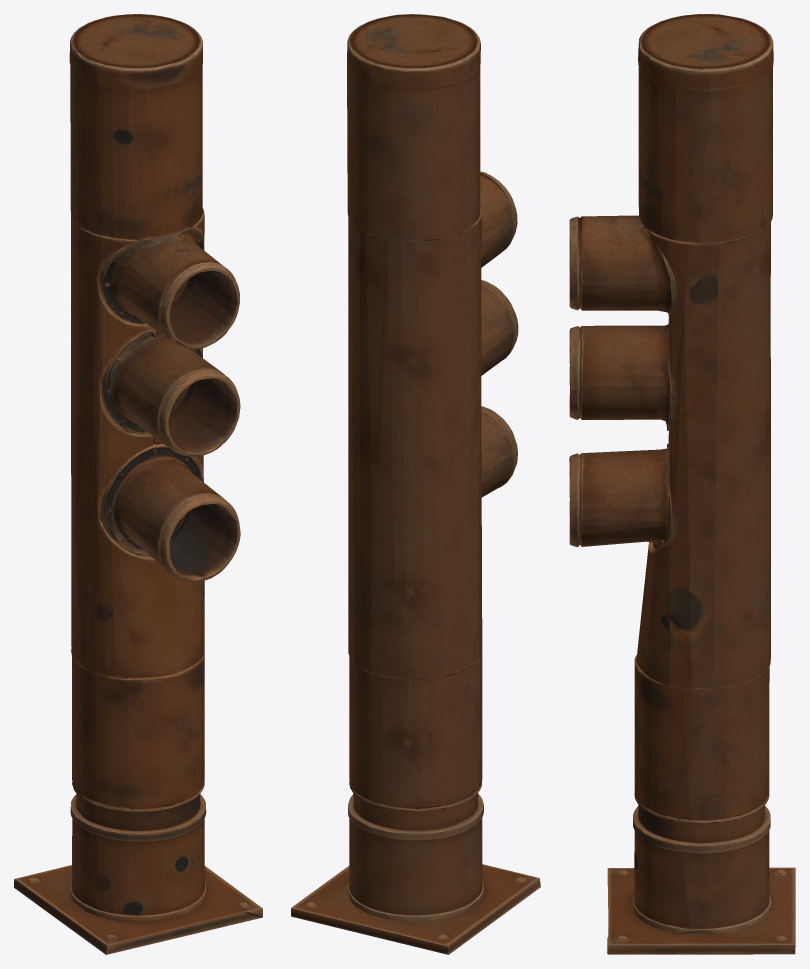
The picture shows the model from 3 angles, left to right: view 1: azimuth 30°, elevation 25°; view 2: azimuth 150°, elevation 25°; view 3: azimuth 270°, elevation 25°; orthographic projection.
Size of the model in its own units: 0.3634 by 1.9 by 0.4459.
Materials: 1 (1 with a texture image).
